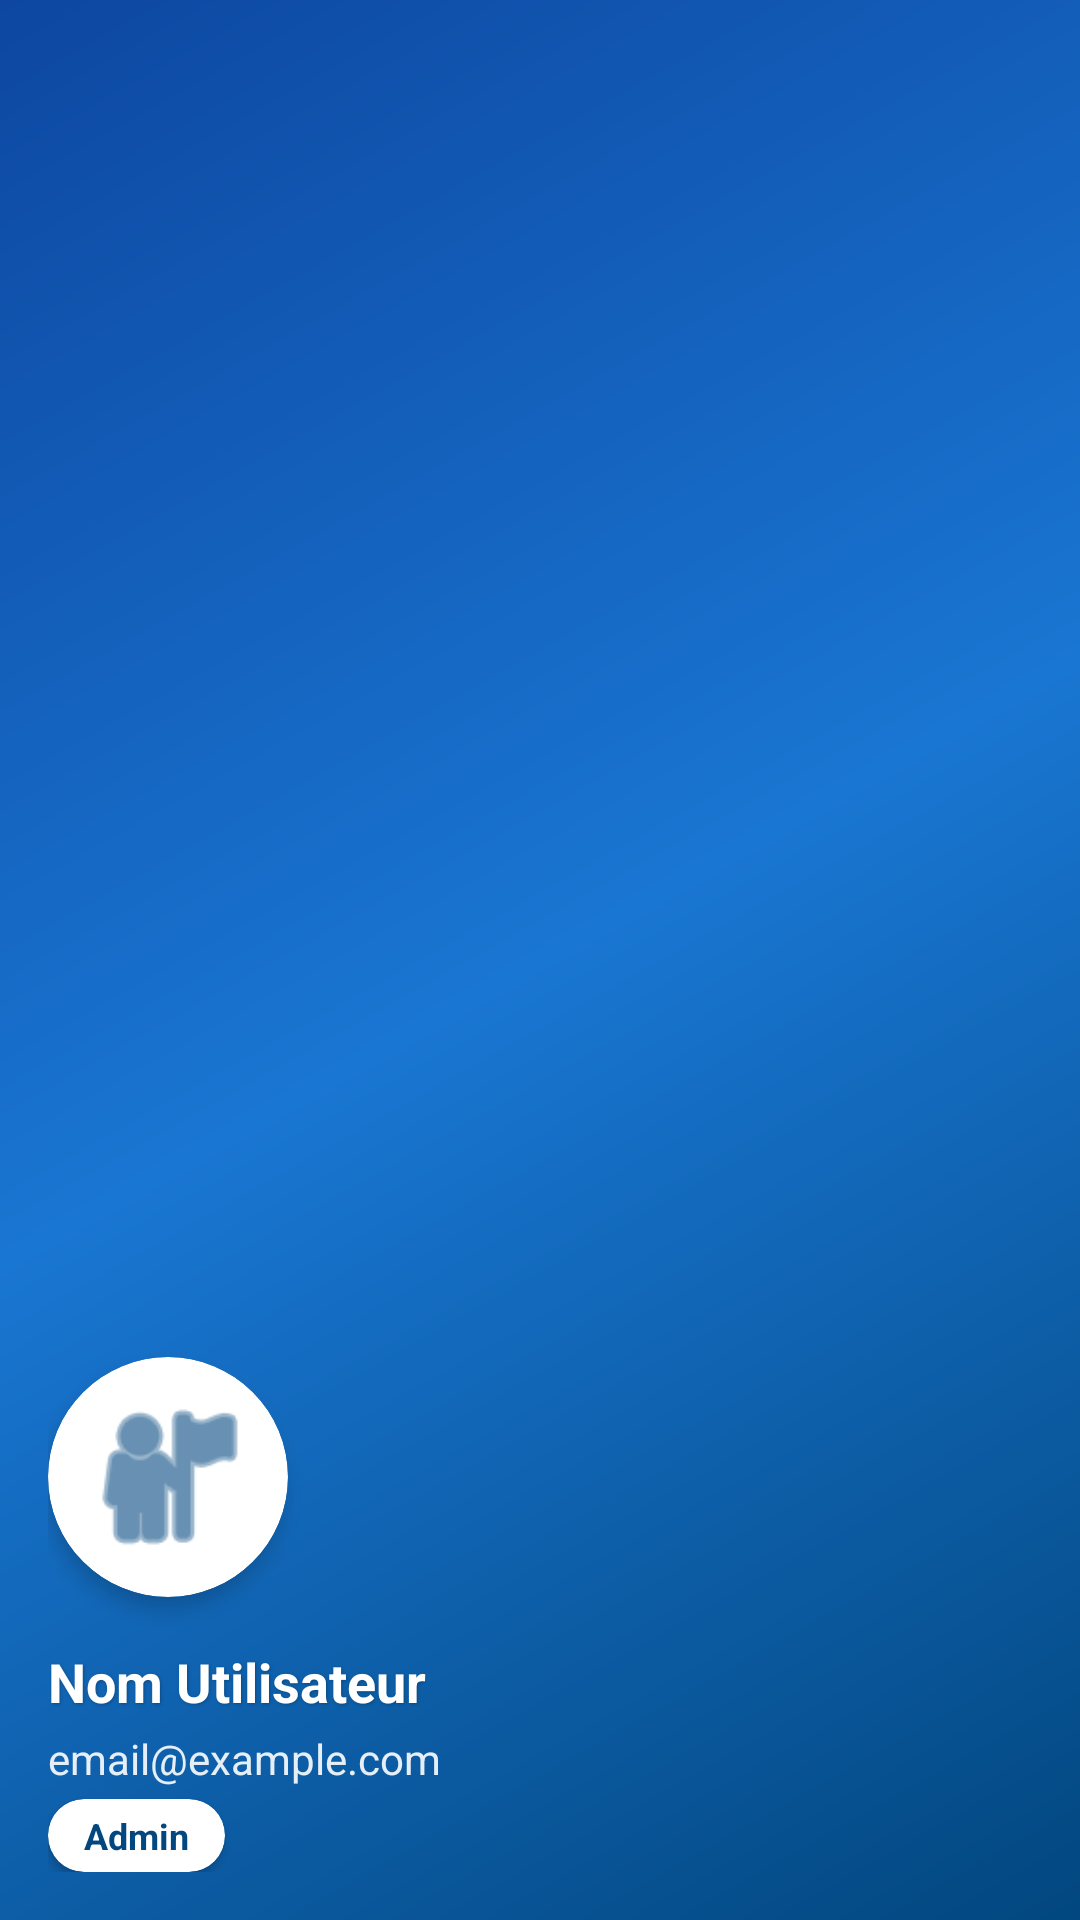

Point at icon controls on the screen. Image size 1080 × 1920, points as point (x, y).
profile: point (170, 1477)
